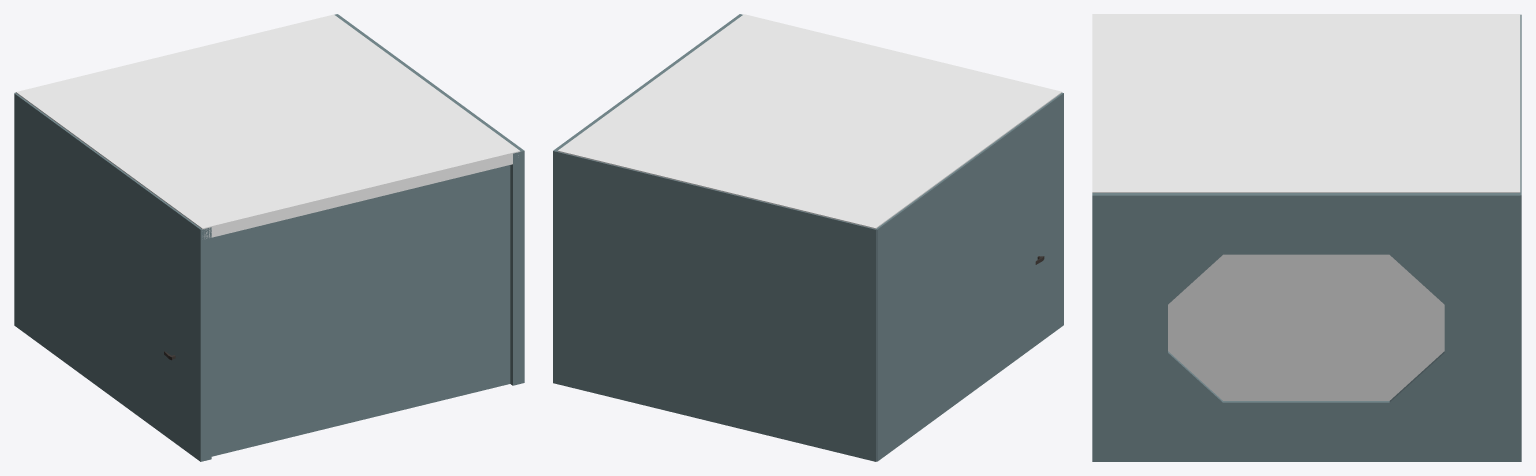
File: interior2.fbx
The picture shows the model from 3 angles, left to right: view 1: azimuth 30°, elevation 25°; view 2: azimuth 150°, elevation 25°; view 3: azimuth 270°, elevation 25°; orthographic projection. The views are drawn at different scales.
Parts seen in each view (by area): view 1: Cube.001, Cube.020; view 2: Cube.001, Cube.020; view 3: Cube.001, Cube.020.
Boxes of the visible parts, left/top/right/bottom form: Cube.001: left=14, top=14, right=524, bottom=461; Cube.020: left=16, top=14, right=520, bottom=238; Cube.001: left=553, top=14, right=1063, bottom=461; Cube.020: left=557, top=14, right=1061, bottom=228; Cube.001: left=1092, top=14, right=1521, bottom=461; Cube.020: left=1092, top=14, right=1520, bottom=192.
Bounding box in the file's own units: 245 × 167 × 241.
